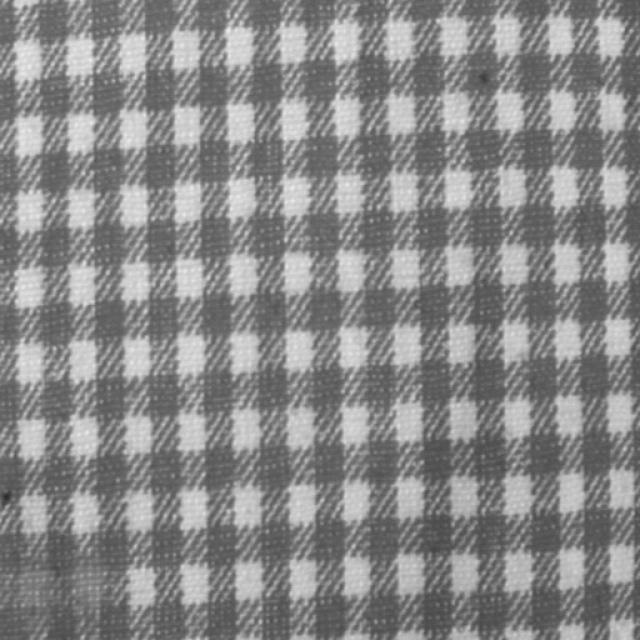Stain-Defect: (0, 564, 105, 610)
